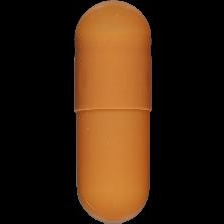0078-0324: (0, 0, 224, 224)
